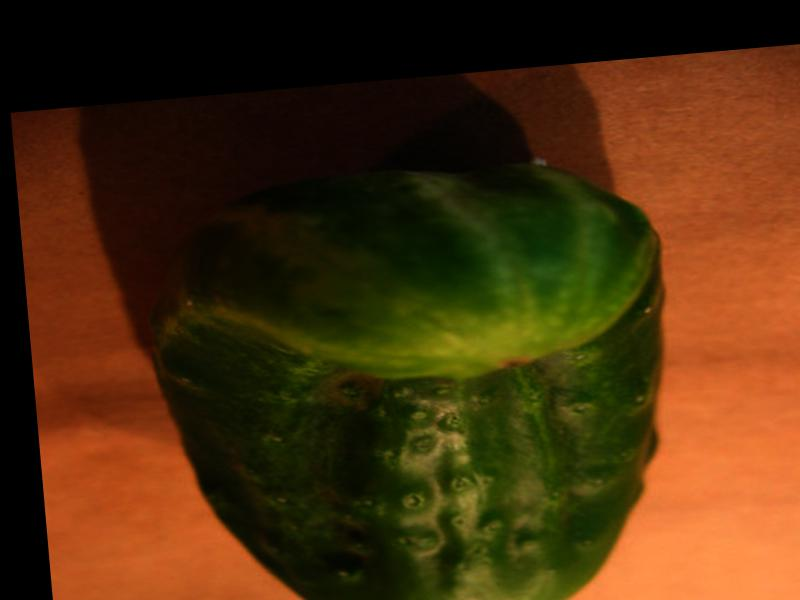Cucumber: (144, 147, 697, 600)
